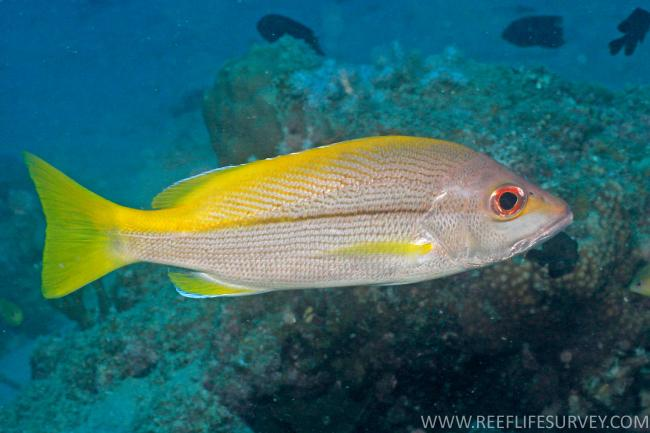fish: (21, 135, 575, 301)
